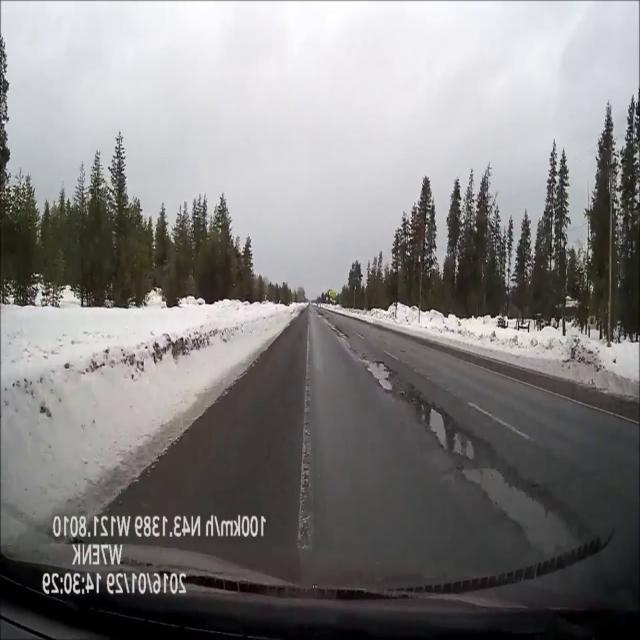pothole: (458, 462, 587, 544), (418, 401, 478, 458), (364, 359, 393, 395), (332, 326, 348, 339), (317, 312, 324, 317)
